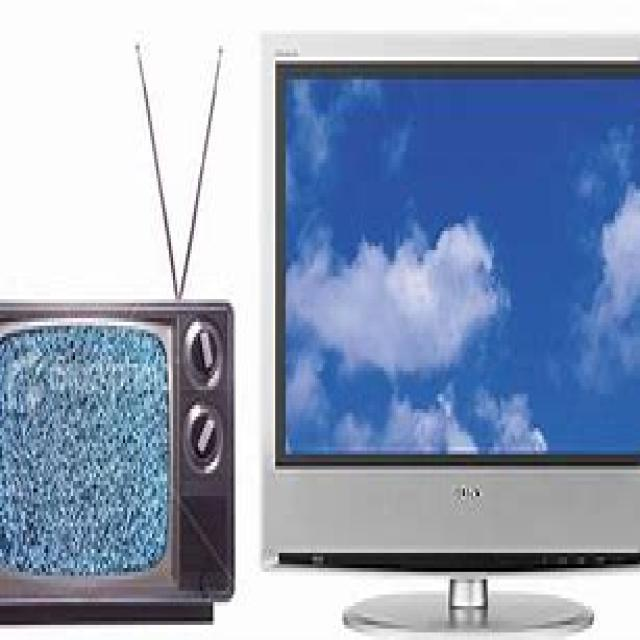tv: (258, 30, 638, 632), (0, 295, 236, 625)
